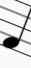note: (3, 0, 31, 59)
